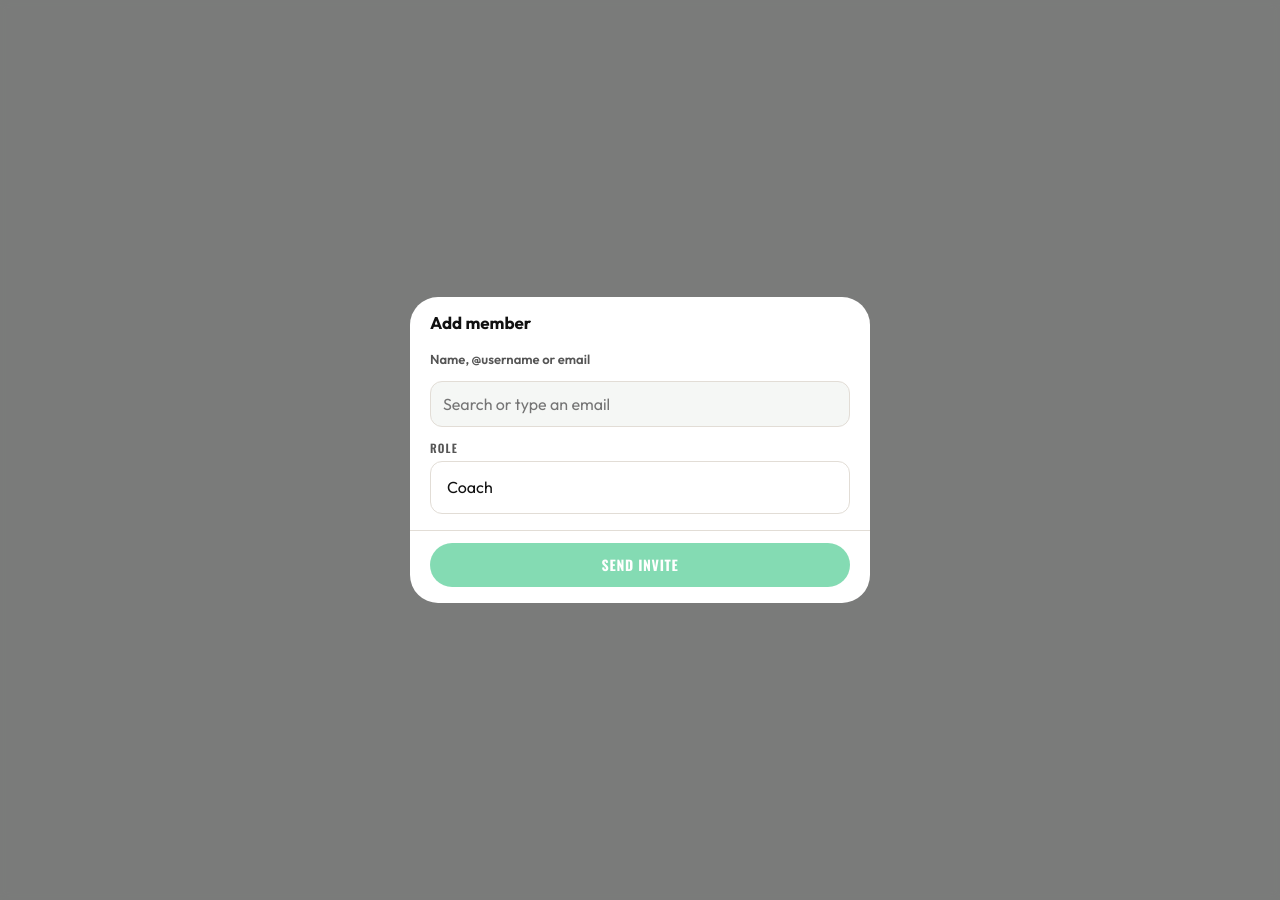
AddMemberSheet: an email › drops the choice when the text changes
Type "known@else.example" into the field labelled "Name, @username or email" at (640,404), box [430, 381, 850, 427]
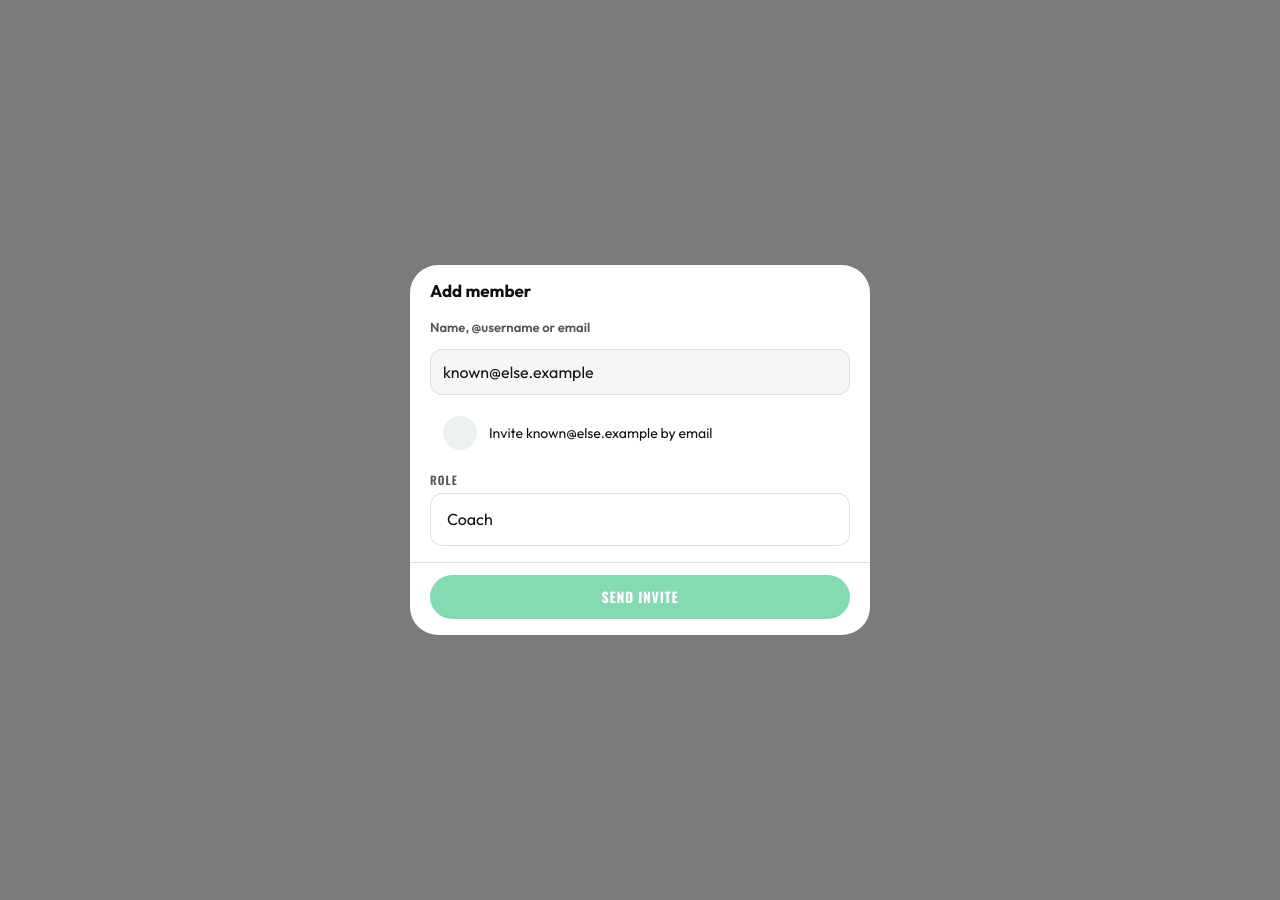
Click the button "Invite known@else.example by email" at (640,433), box [430, 407, 850, 459]
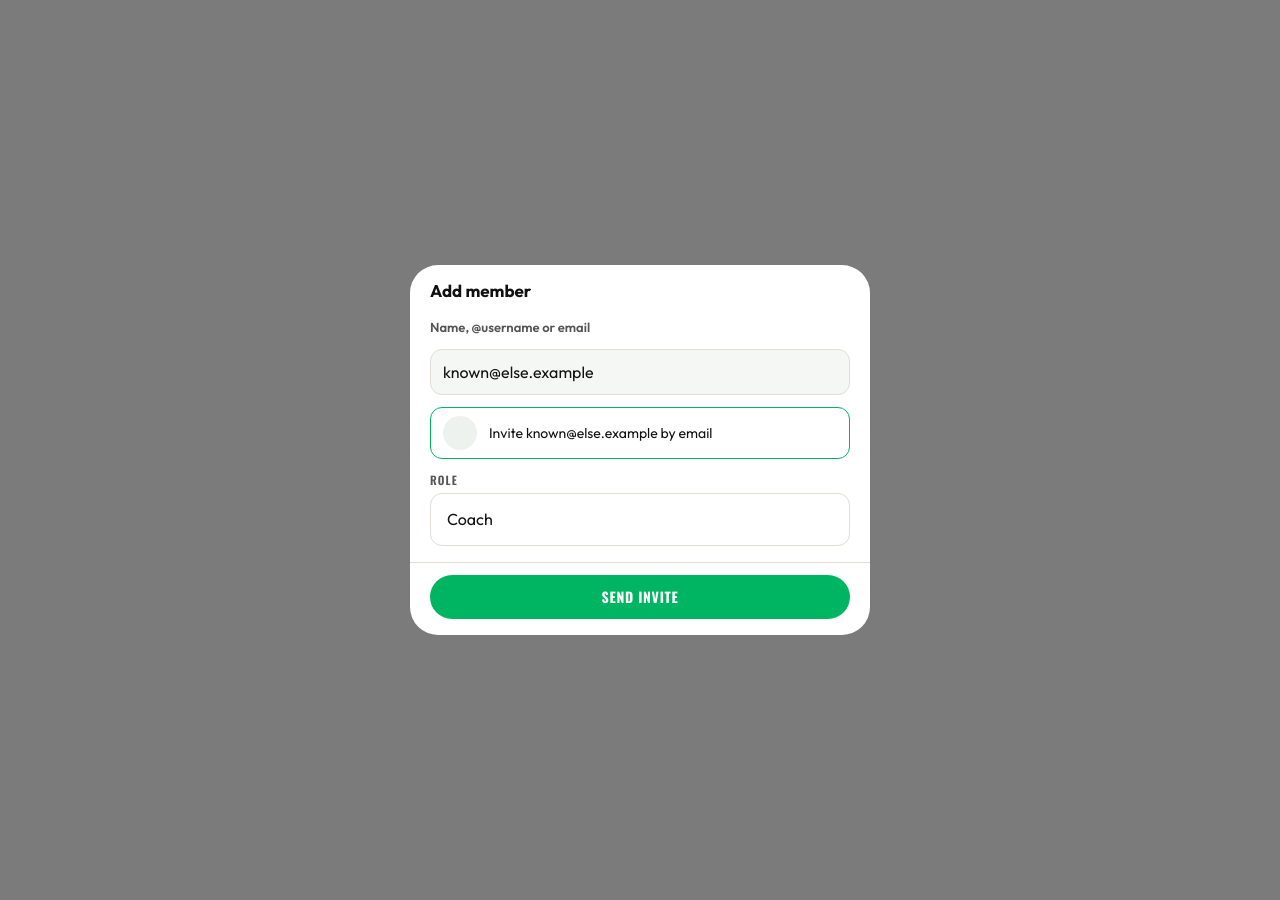
Expected: the button "Send invite" is enabled, [430, 575, 850, 619]
Replace the text in the field labelled "Name, @username or email" with "known@else.exampl" at (640,372), box [430, 349, 850, 395]
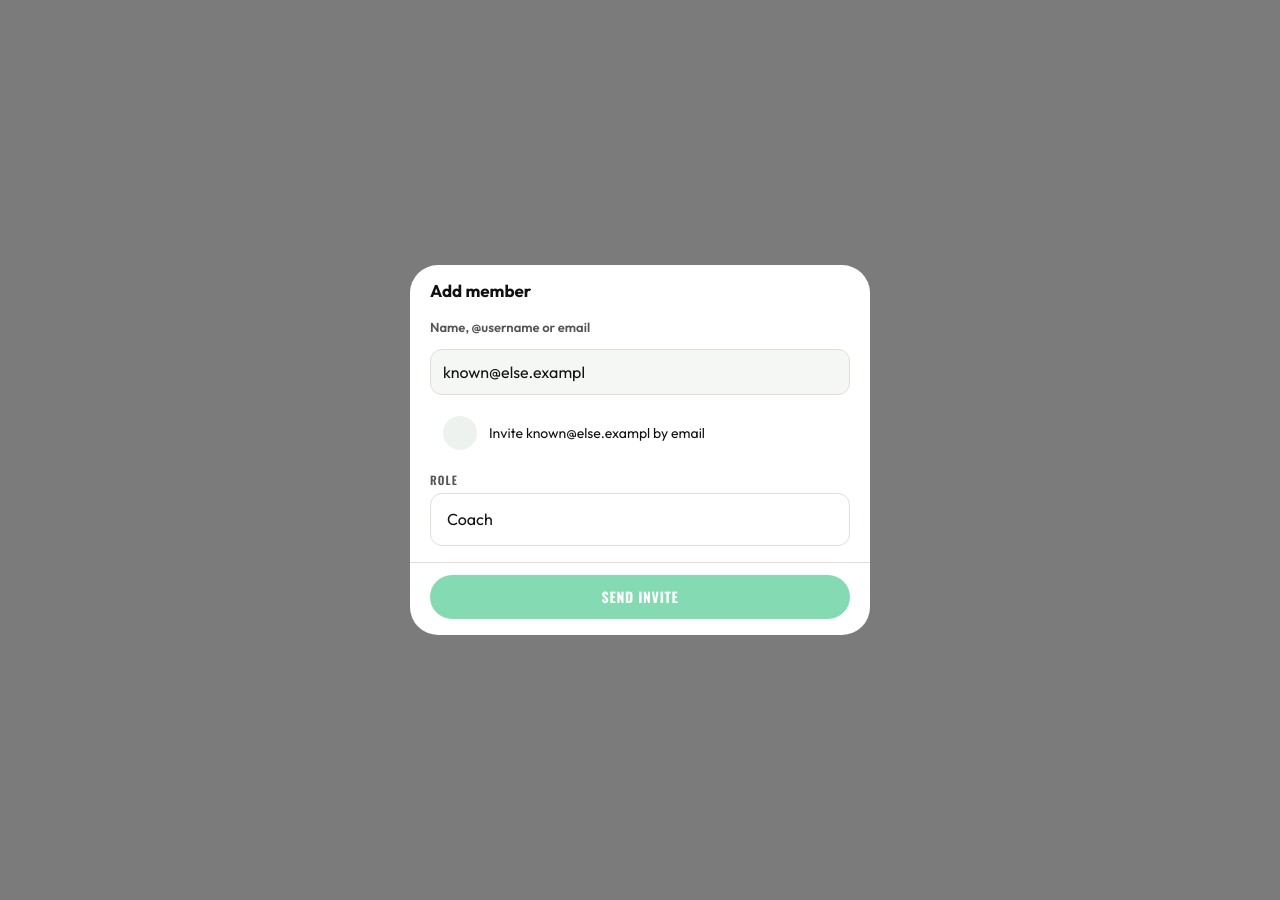
Expected: the button "Send invite" is disabled, [430, 575, 850, 619]
